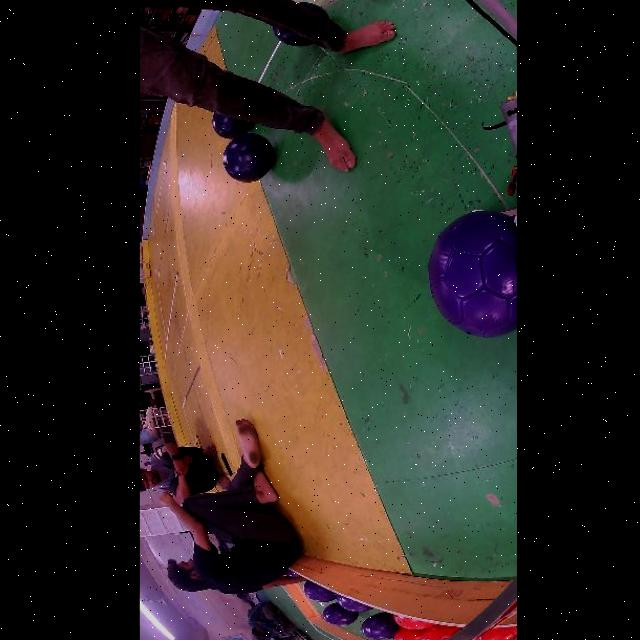B: (223, 133, 274, 183), (211, 113, 254, 140), (288, 2, 328, 20)
P: (429, 211, 516, 338), (362, 613, 401, 640), (322, 603, 357, 625), (303, 581, 336, 603), (337, 595, 373, 613)
R: (394, 616, 436, 630), (474, 626, 516, 640), (422, 625, 460, 640), (395, 629, 425, 640)
